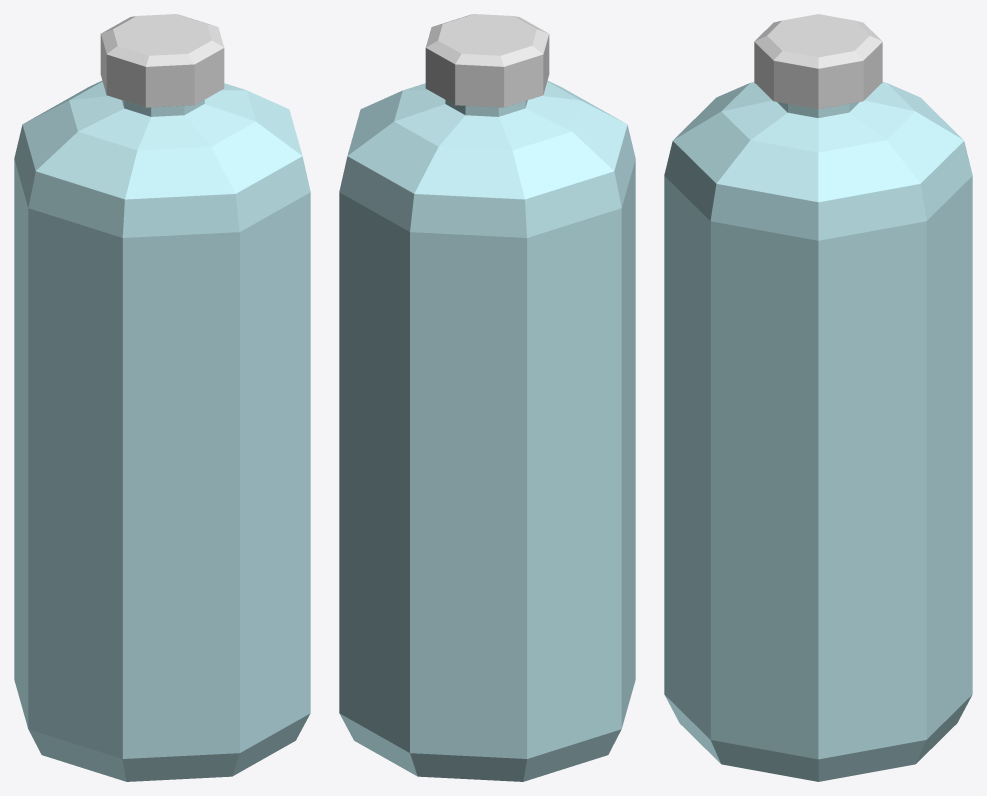
Rendered from wattleboter_exportprep.gltf.
3 renders of one model, left to right at view 1: azimuth 30°, elevation 25°; view 2: azimuth 150°, elevation 25°; view 3: azimuth 270°, elevation 25°, orthographic.
Parts seen in each view (by area): view 1: Cube; view 2: Cube; view 3: Cube.
Boxes of the visible parts, x1,y1,x2,y2 form: Cube: (14, 14, 310, 781); Cube: (339, 14, 635, 781); Cube: (664, 14, 972, 781).
Bounding box in the file's own units: 0.048 × 0.118 × 0.048.
